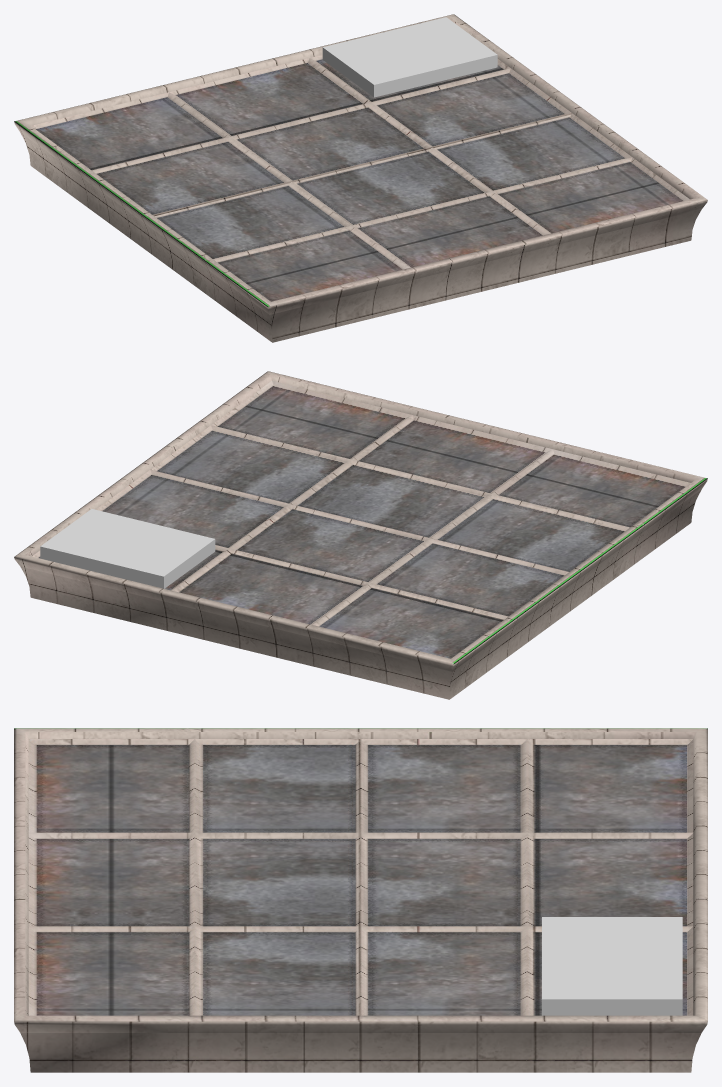
The model's file is Table.FBX.
3 renders of one model, top to bottom at view 1: azimuth 30°, elevation 25°; view 2: azimuth 150°, elevation 25°; view 3: azimuth 270°, elevation 25°, orthographic. The views are drawn at different scales.
Parts seen in each view (by area): view 1: Box001, Box002; view 2: Box001, Box002; view 3: Box001, Box002.
Boxes of the visible parts, x1,y1,x2,y2 form: Box001: (14,14,707,342); Box002: (322,17,497,97); Box001: (14,371,707,699); Box002: (40,509,215,588); Box001: (14,728,707,1072); Box002: (542,917,682,1015).
Size of the model in its own units: 199 by 21.76 by 199.
